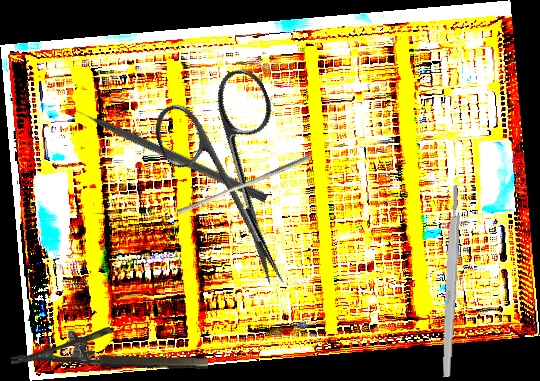Iris Scissors: (144, 62, 335, 307)
Needle Holder: (10, 324, 210, 371)
Pusher: (61, 98, 270, 204), (176, 149, 312, 220)
Scalpel Handle: (440, 184, 463, 378)
